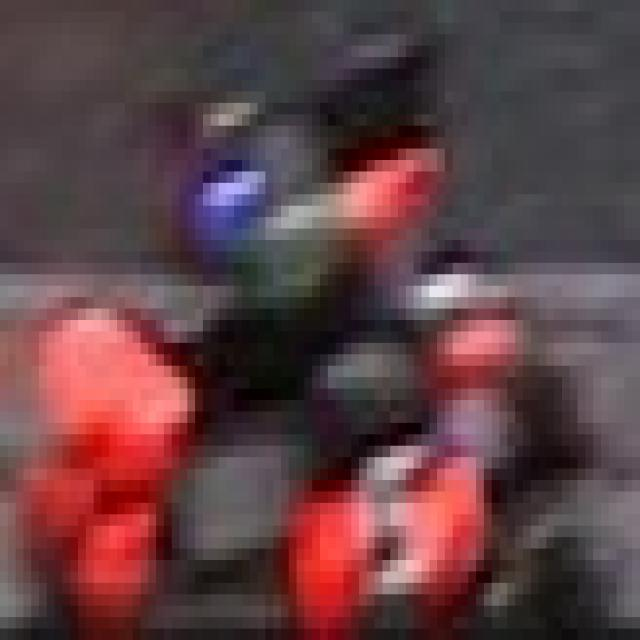R5: (289, 446, 484, 617)
